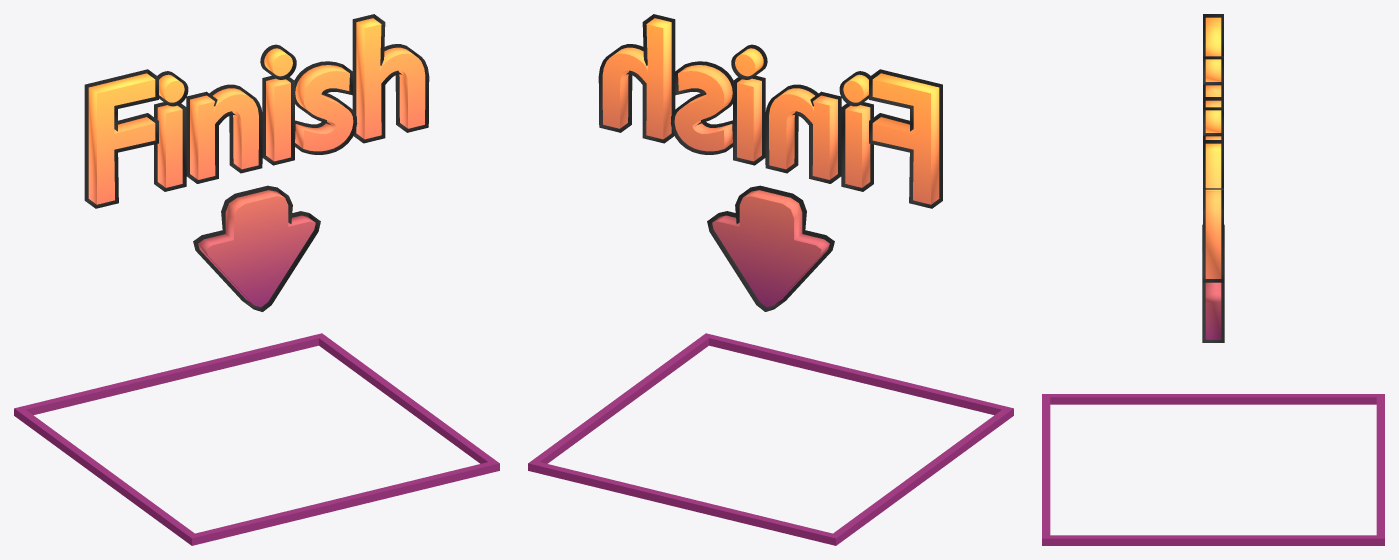
Rendered from finishSign.glb.
3 views of the same model, side by side, from view 1: azimuth 30°, elevation 25°; view 2: azimuth 150°, elevation 25°; view 3: azimuth 270°, elevation 25° (orthographic). The views are drawn at different scales.
Visible parts, largest first — view 1: Finish, Border.001, FinishOutline, ArrowDown, ArrowDownOutline; view 2: Finish, Border.001, FinishOutline, ArrowDown, ArrowDownOutline; view 3: Border.001, Finish, FinishOutline, ArrowDown, ArrowDownOutline.
Boxes of the visible parts, x1,y1,x2,y2 form: Finish: (88, 18, 425, 204); Border.001: (14, 333, 499, 545); FinishOutline: (84, 14, 429, 208); ArrowDown: (198, 190, 315, 307); ArrowDownOutline: (193, 185, 320, 311); Finish: (602, 18, 939, 204); Border.001: (528, 333, 1013, 545); FinishOutline: (598, 14, 942, 208); ArrowDown: (712, 190, 829, 307); ArrowDownOutline: (707, 185, 834, 311); Border.001: (1042, 394, 1384, 545); Finish: (1205, 17, 1221, 278); FinishOutline: (1203, 14, 1223, 282); ArrowDown: (1205, 282, 1221, 339); ArrowDownOutline: (1202, 224, 1224, 342).
Bounding box in the file's own units: 3.48 × 3.94 × 3.21.
Materials: 1 (1 with a texture image).
